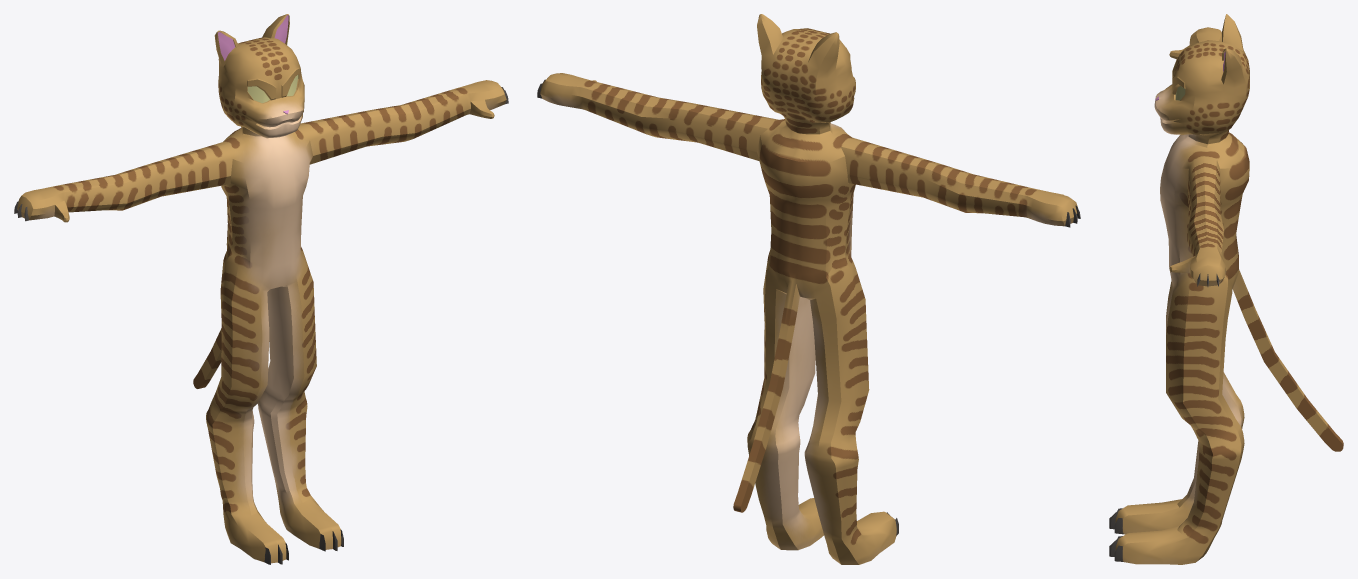
File: Cat_Enemy_Final_04.fbx
3 views of the same model, side by side, from view 1: azimuth 30°, elevation 25°; view 2: azimuth 150°, elevation 25°; view 3: azimuth 270°, elevation 25° (orthographic). The views are drawn at different scales.
Visible parts, largest first — view 1: pCube12; view 2: pCube12; view 3: pCube12.
Boxes of the visible parts, x1=… form: pCube12: x1=14, y1=14, x2=508, y2=564; pCube12: x1=537, y1=14, x2=1080, y2=564; pCube12: x1=1109, y1=14, x2=1343, y2=564.
Size of the model in its own units: 9.79 by 9.46 by 3.92.
1 material, 1 textured.
